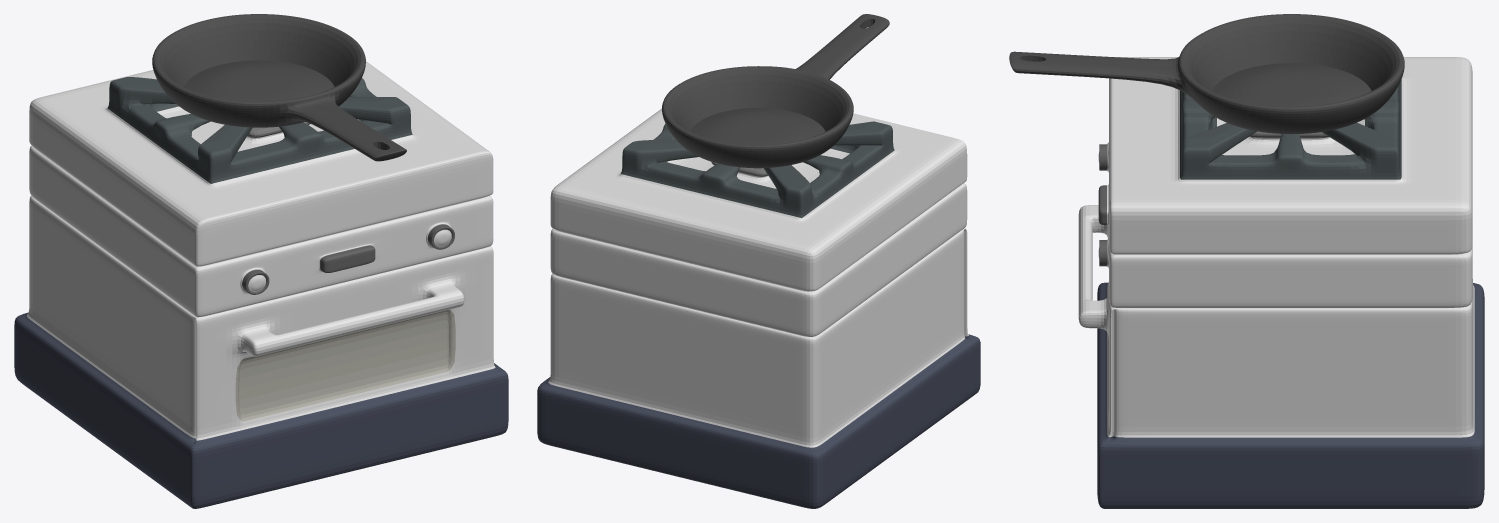
The model's file is Gas_range_frypan.fbx.
3 views of the same model, side by side, from view 1: azimuth 30°, elevation 25°; view 2: azimuth 150°, elevation 25°; view 3: azimuth 270°, elevation 25° (orthographic). The views are drawn at different scales.
Parts seen in each view (by area): view 1: 큐브.054, 원형.035; view 2: 큐브.054, 원형.035; view 3: 큐브.054, 원형.035.
Boxes of the visible parts, box(x1,y1,x2,y2) form: 큐브.054: box(14, 61, 508, 508); 원형.035: box(152, 14, 406, 161); 큐브.054: box(537, 108, 980, 508); 원형.035: box(662, 14, 889, 168); 큐브.054: box(1078, 57, 1484, 508); 원형.035: box(1009, 14, 1404, 134).
Size of the model in its own units: 315 by 333 by 386.
